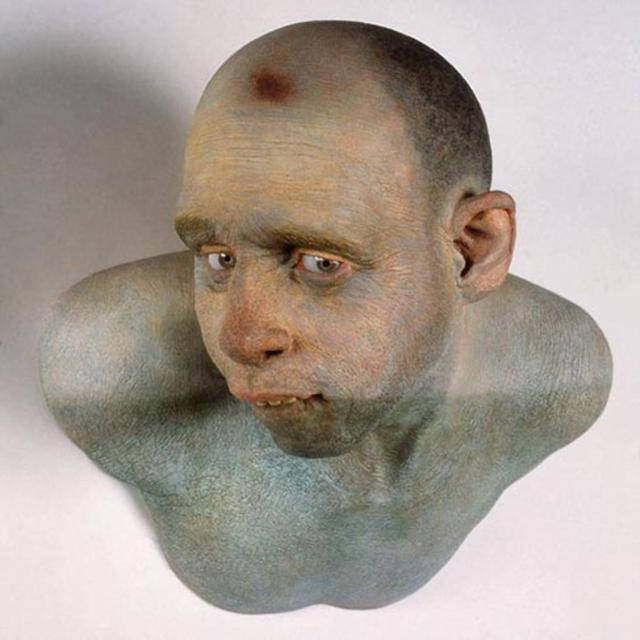nomask: (187, 165, 399, 453)
